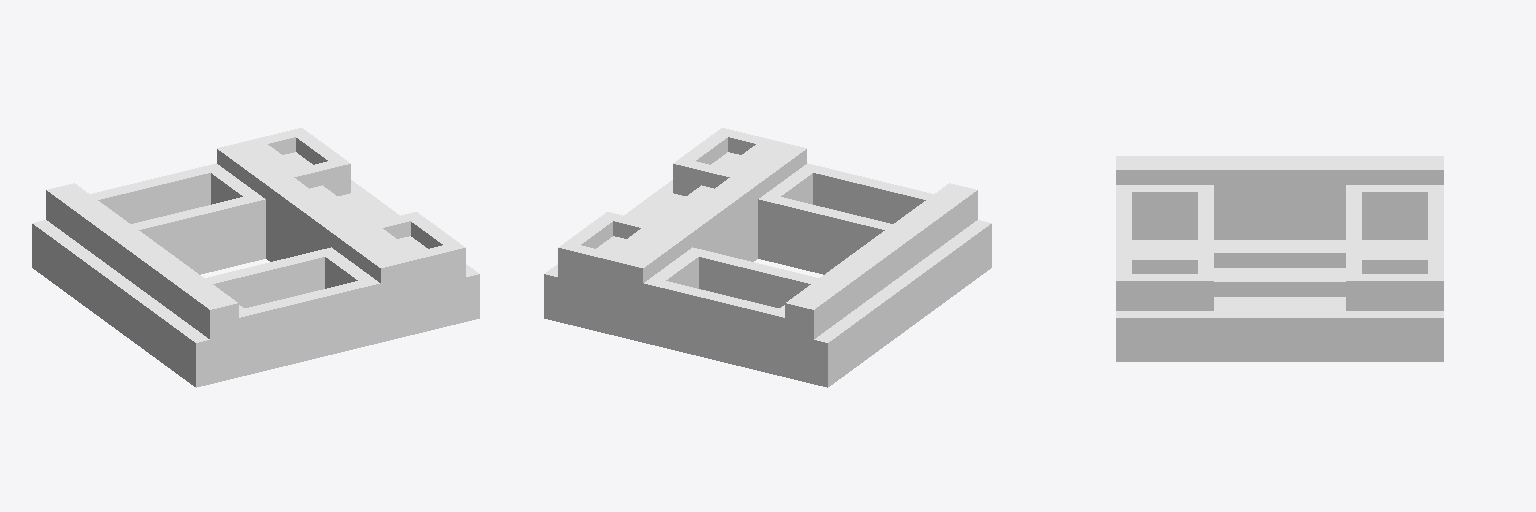
File: Backmonorail.obj
3 views of the same model, side by side, from view 1: azimuth 30°, elevation 25°; view 2: azimuth 150°, elevation 25°; view 3: azimuth 270°, elevation 25° (orthographic).
Visible parts, largest first — view 1: object 1; view 2: object 1; view 3: object 1.
Boxes of the visible parts, x1,y1,x2,y2 form: object 1: [32, 128, 479, 387]; object 1: [544, 128, 991, 387]; object 1: [1116, 156, 1443, 361].
Bounding box in the file's own units: 2 × 0.5 × 2.